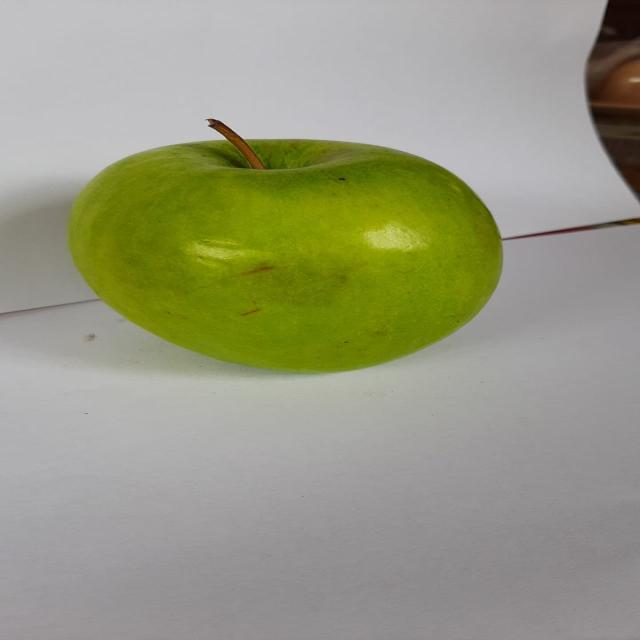50-_ripeness: (55, 110, 521, 384)
